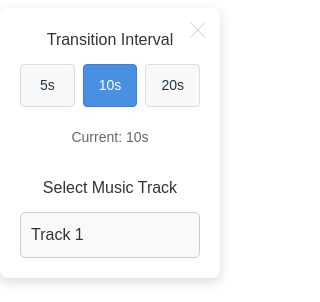
Test: SettingsModal › shows track dropdown when dropup header is clicked
Expected: the text "Track 2" is not shown
// Click the dropdown header
What coordinates should you click on to do the following:
click the text "Track 1"
I would click on:
 (110, 235)
Its box is [20,212,200,258].
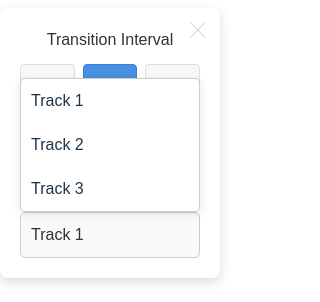
Now the text "Track 2" is shown, box [31,136,84,153]
Now the text "Track 3" is shown, box [31,180,84,197]
